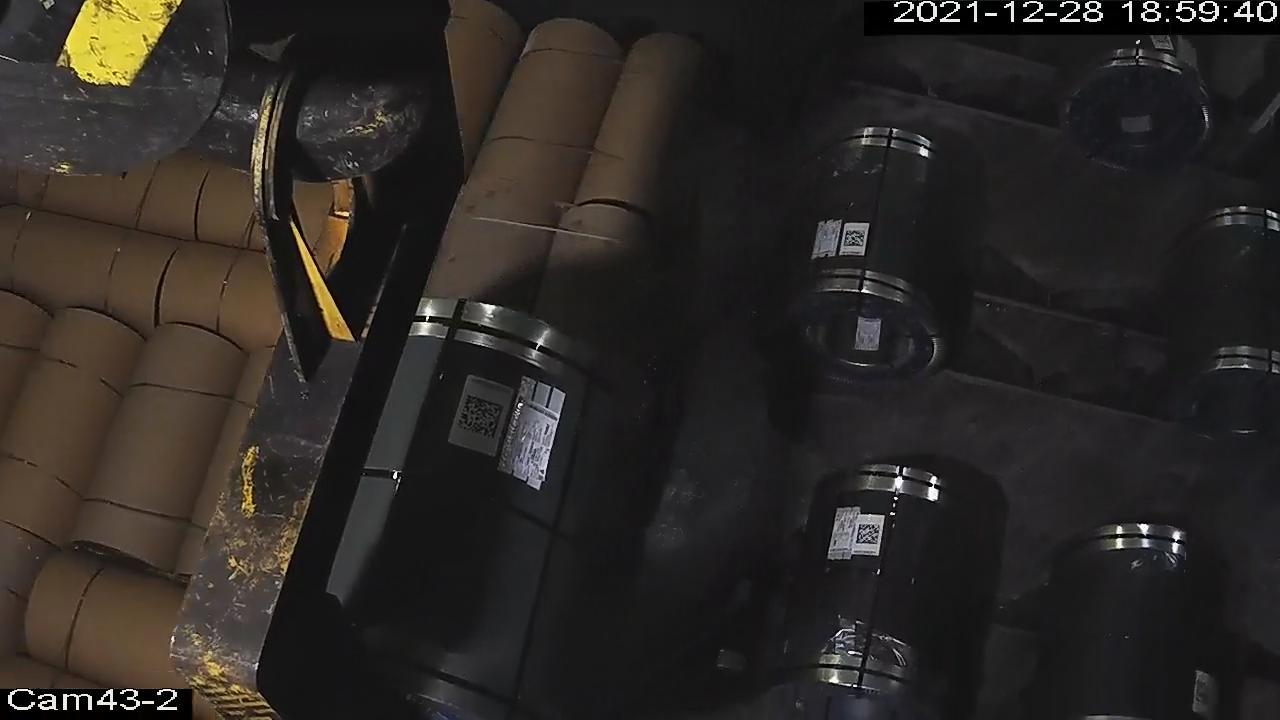data matrix: (454, 393, 507, 442), (856, 522, 883, 548), (843, 227, 868, 251)
